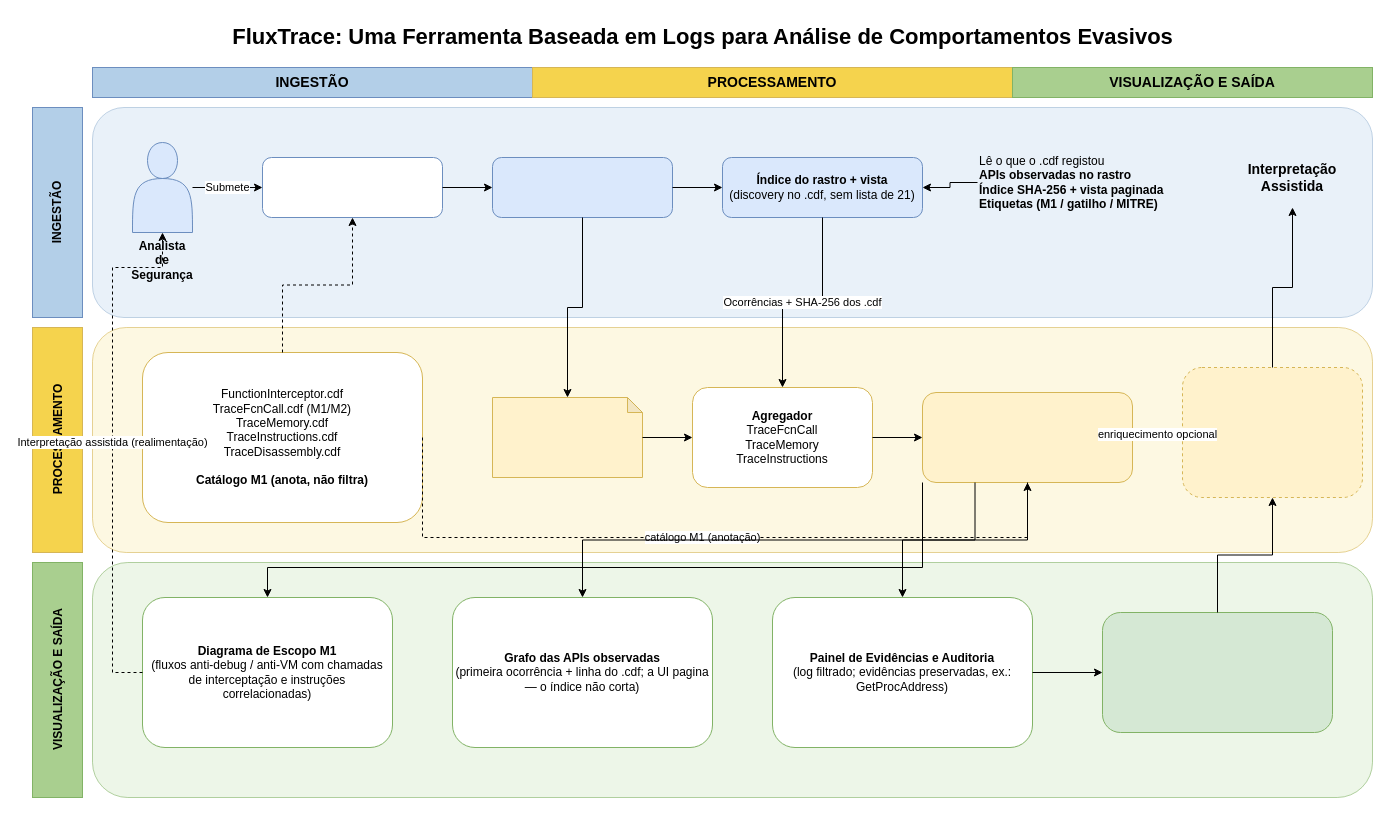
Some shapes in this 1390 by 815 pixel diagram are drawn without their labels. Here are the shapes that lost their labels. From the top down, the centre of each, then its label:
the point at 352,187: Logs DBI Contradef (.cdf, ficheiros multi-GB)
the point at 582,187: Módulo de Ingestão de FluxTrace
the point at 567,437: Índice + vista
the point at 1027,437: Engine de Correlação e Análise Comportamental
the point at 1272,432: TraceFcnCall TraceMemory TraceInstructions MITRE ATT&CK
the point at 1217,672: Interpretação Consolidada e Veredito Técnico
